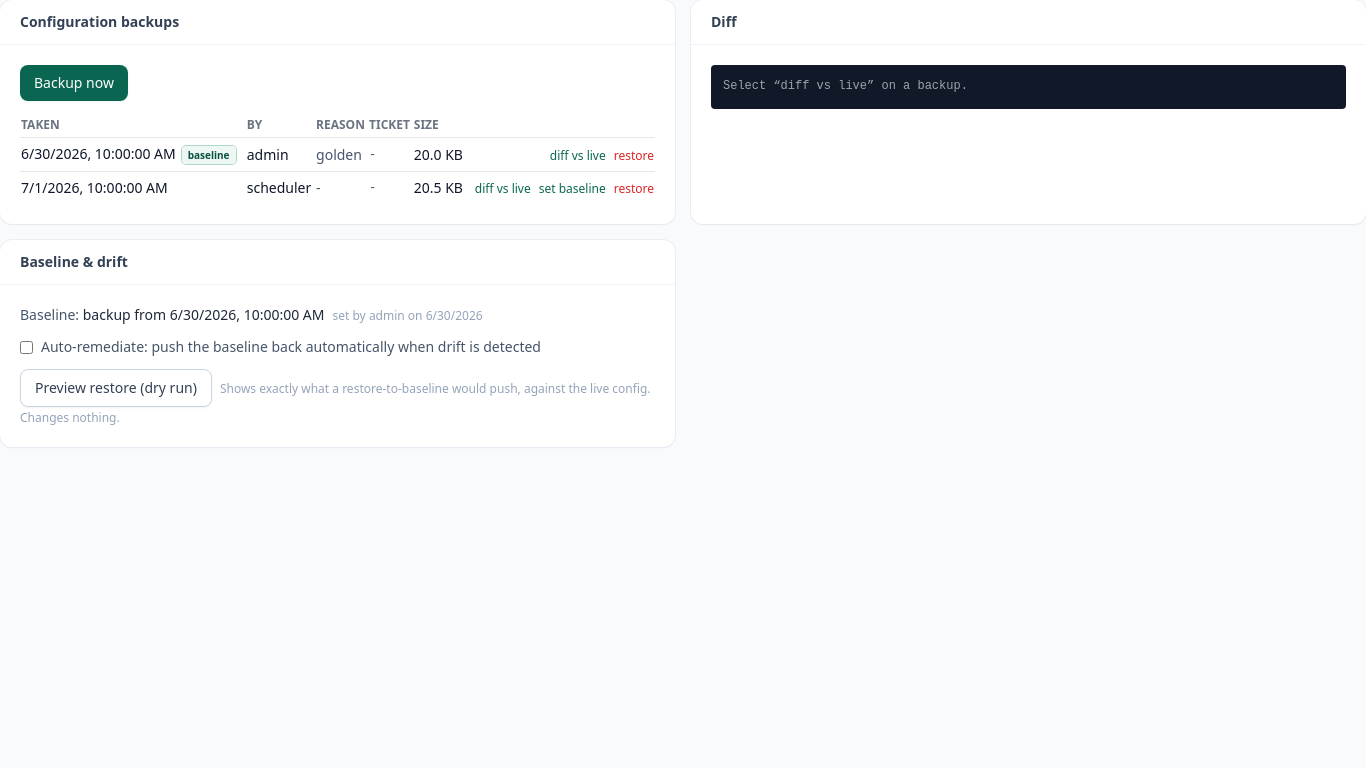
Test: BackupsTab baseline management › dry run opens the preview modal with a restore action
The width and height of the screenshot is (1366, 768).
Click the button "Preview restore (dry run)".
click(116, 388)  # box [20,369,212,407]
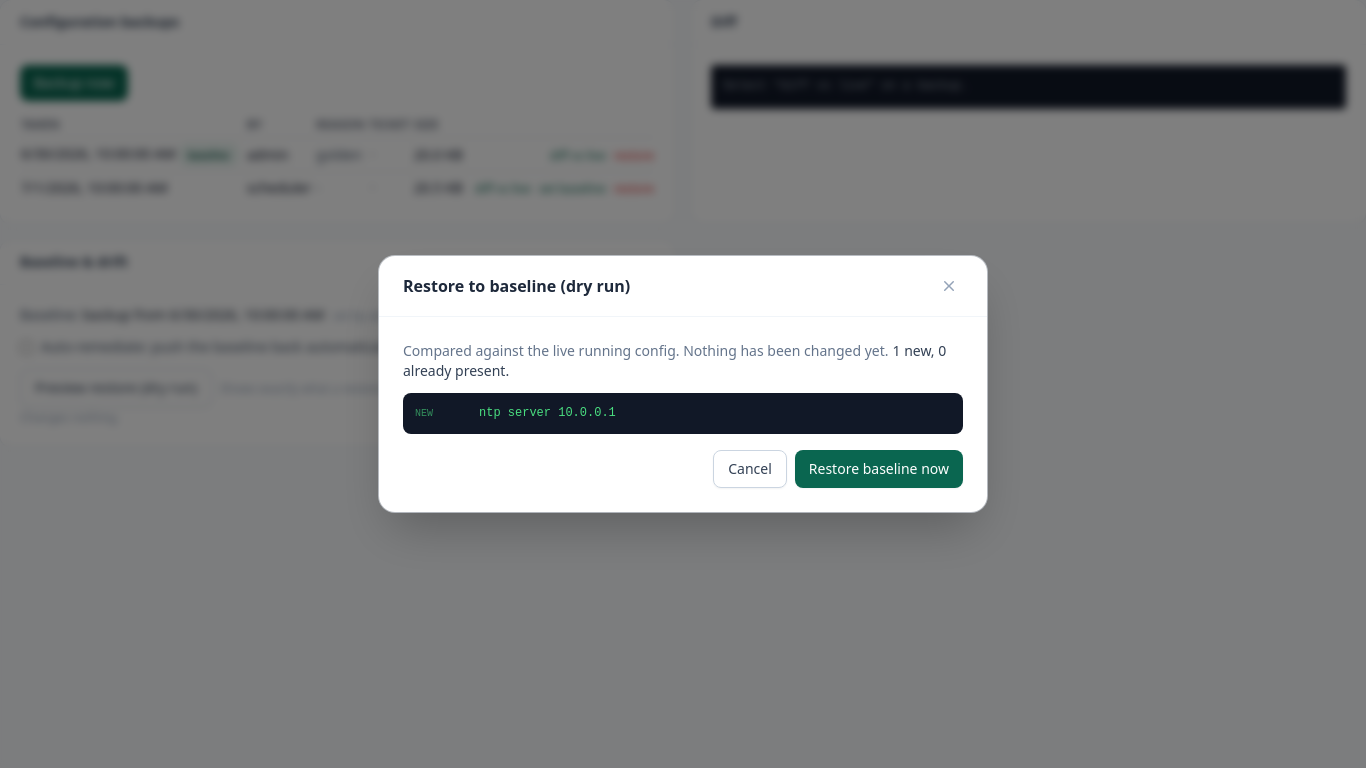
Check: the heading "Restore to baseline (dry run)" is shown, box [403,274,630,298]
Check: the text "ntp server 10.0.0.1" is shown, box [479,406,616,420]
Check: the button "Restore baseline now" is shown, box [795,450,963,488]
